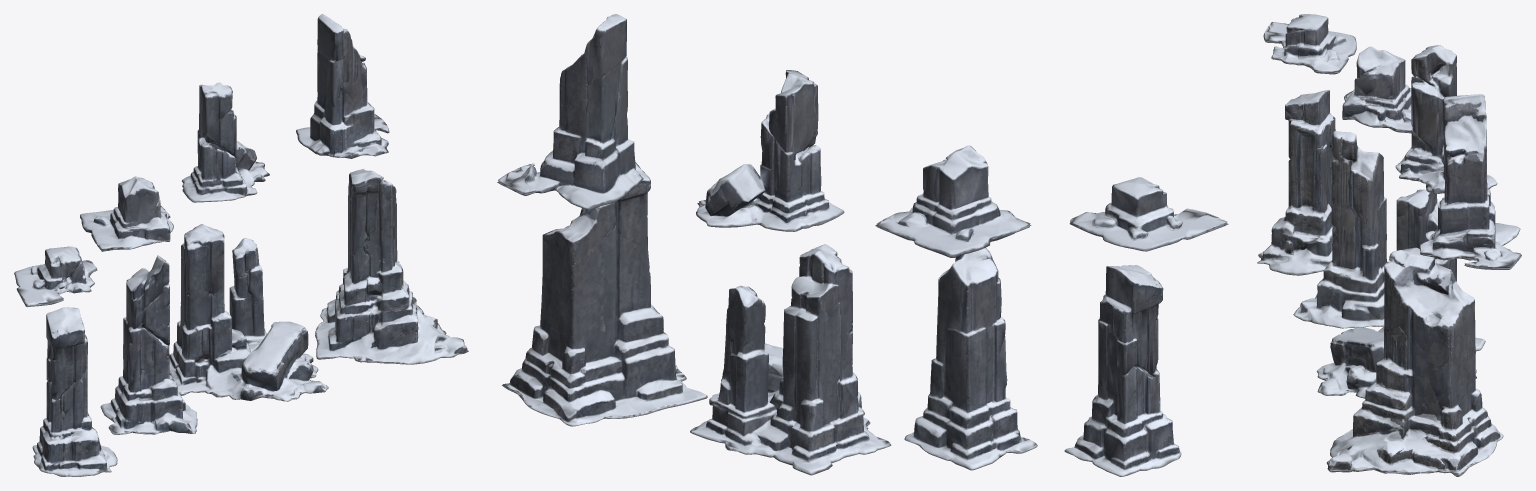
The model's file is ruinas.glb.
The picture shows the model from 3 angles, left to right: view 1: azimuth 30°, elevation 25°; view 2: azimuth 150°, elevation 25°; view 3: azimuth 270°, elevation 25°; orthographic projection. The views are drawn at different scales.
Size of the model in its own units: 0.9833 by 0.6054 by 0.4289.
Materials: 1 (1 with a texture image).
